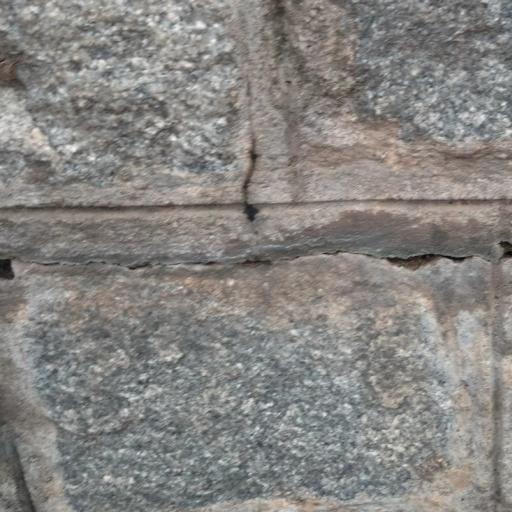minor_crack: (4, 214, 512, 292), (221, 134, 272, 224)
